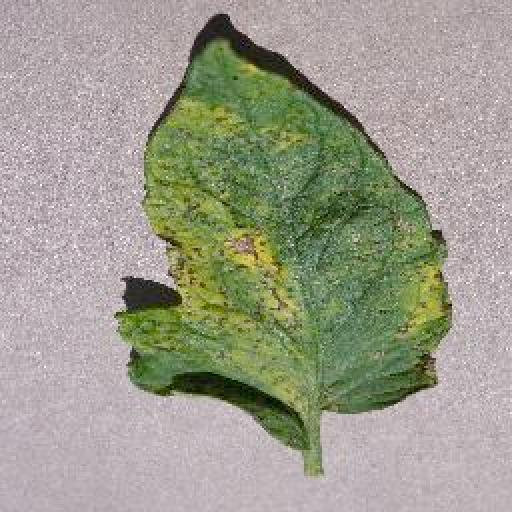disease_tomato: (110, 32, 451, 454)
